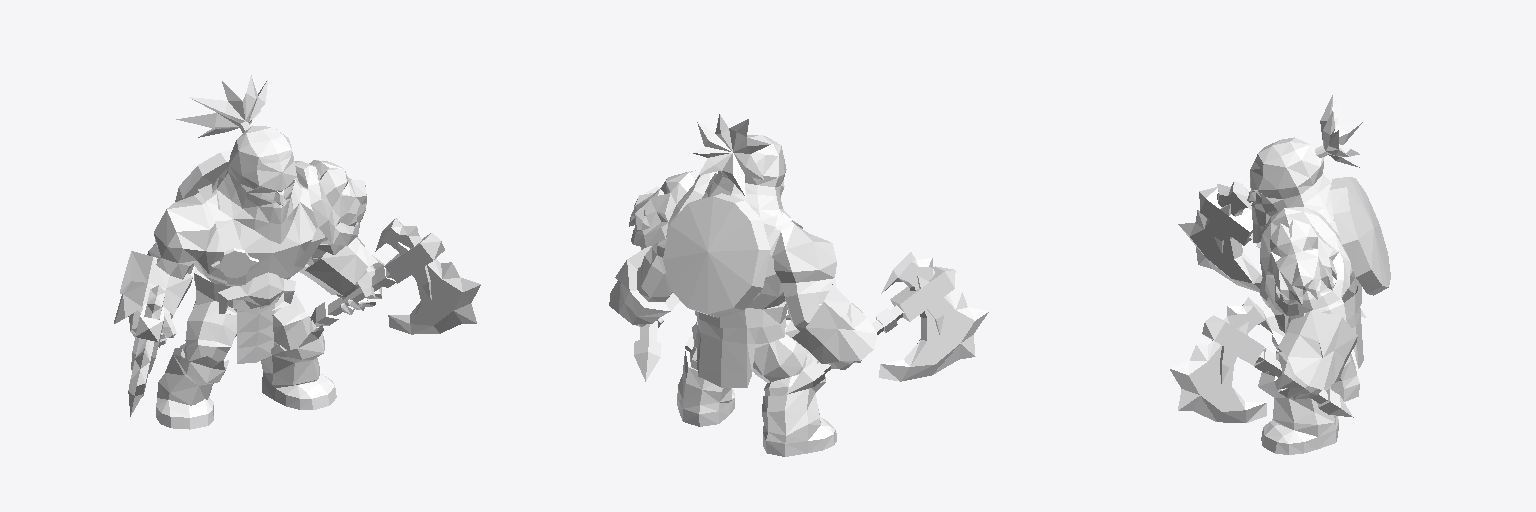
Rendered from northseaking-dark.obj.
3 renders of one model, left to right at view 1: azimuth 30°, elevation 25°; view 2: azimuth 150°, elevation 25°; view 3: azimuth 270°, elevation 25°, orthographic.
Bounding box in the file's own units: 183 × 164 × 104.